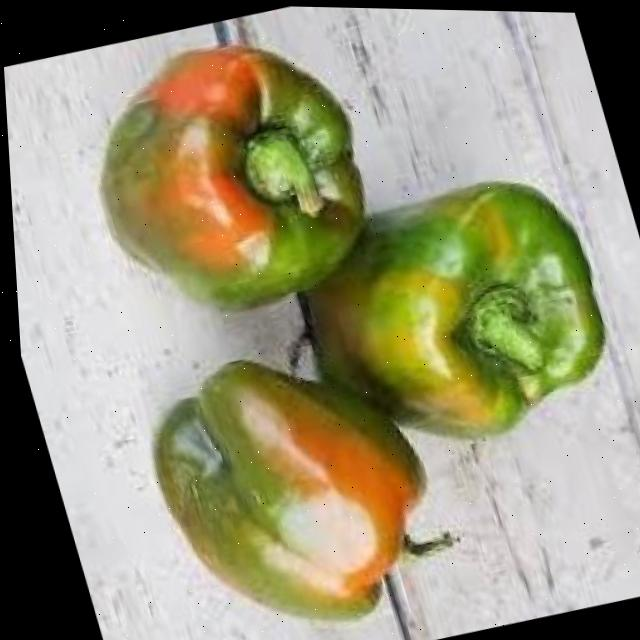Wet: (44, 1, 411, 355), (254, 152, 640, 488), (106, 305, 484, 640)
